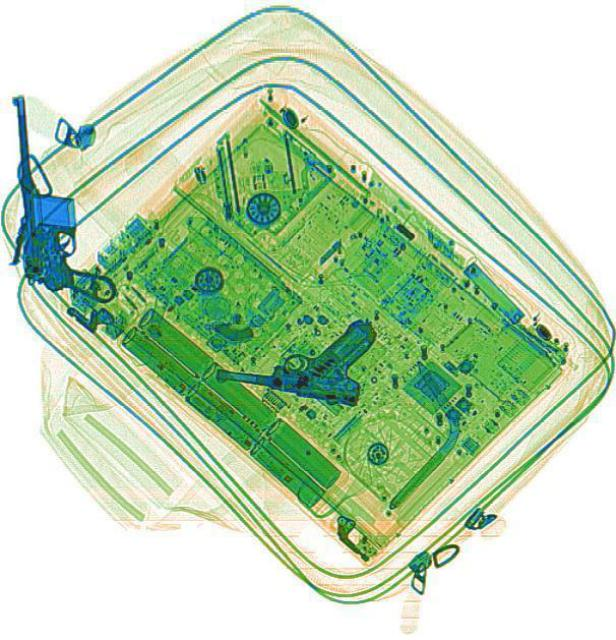Gun: (3, 88, 115, 306), (211, 296, 377, 406)
